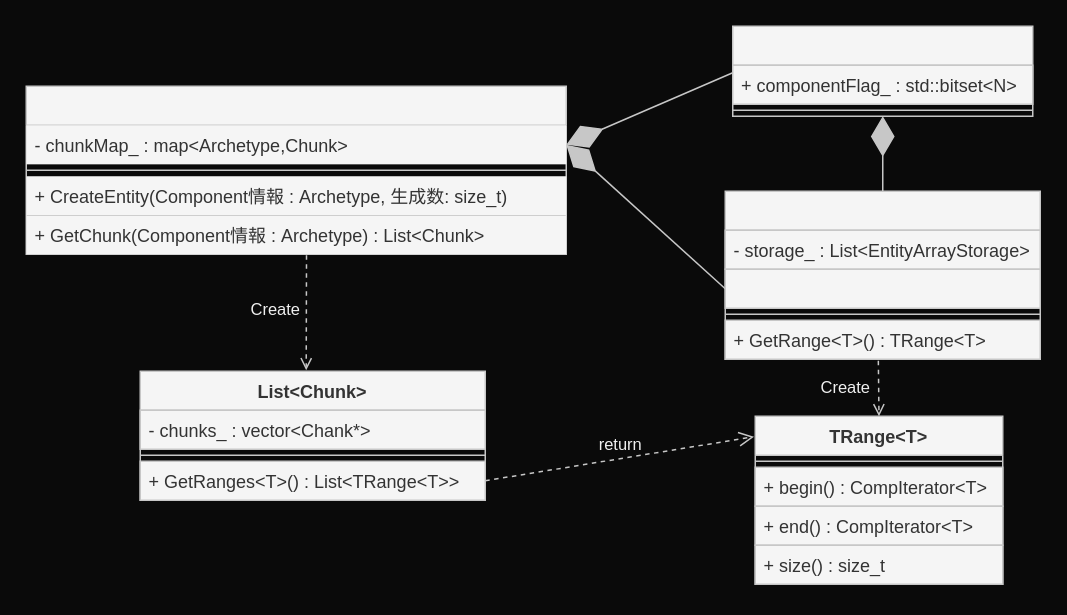
Some shapes in this 1067 by 615 pixel diagram are drawn without their labels. The box of each missing label's shape, as (x1, y1, x2, y2) in pixels:
- size_ : size_t = 0u: (724, 268, 1040, 308)
Archetype: (731, 25, 1033, 116)
Chunk: (724, 190, 1040, 359)
World: (25, 85, 566, 254)
